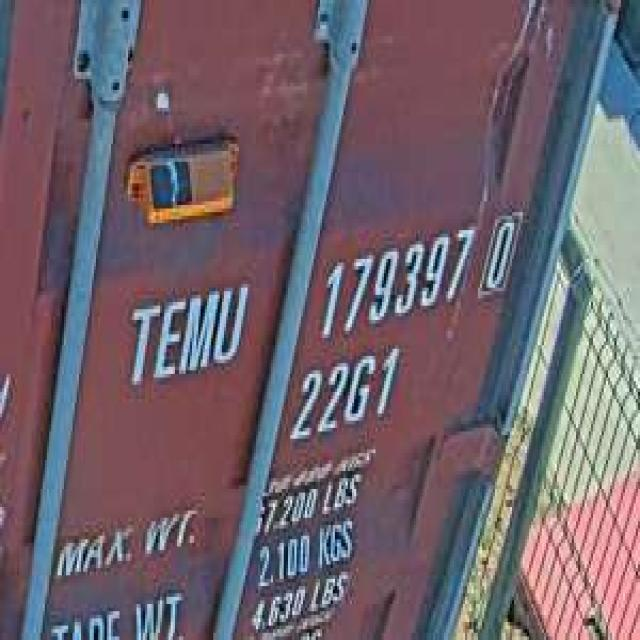dv: (478, 201, 523, 306)
owner: (119, 270, 252, 396)
serial: (316, 219, 474, 345)
size: (284, 342, 407, 442)
